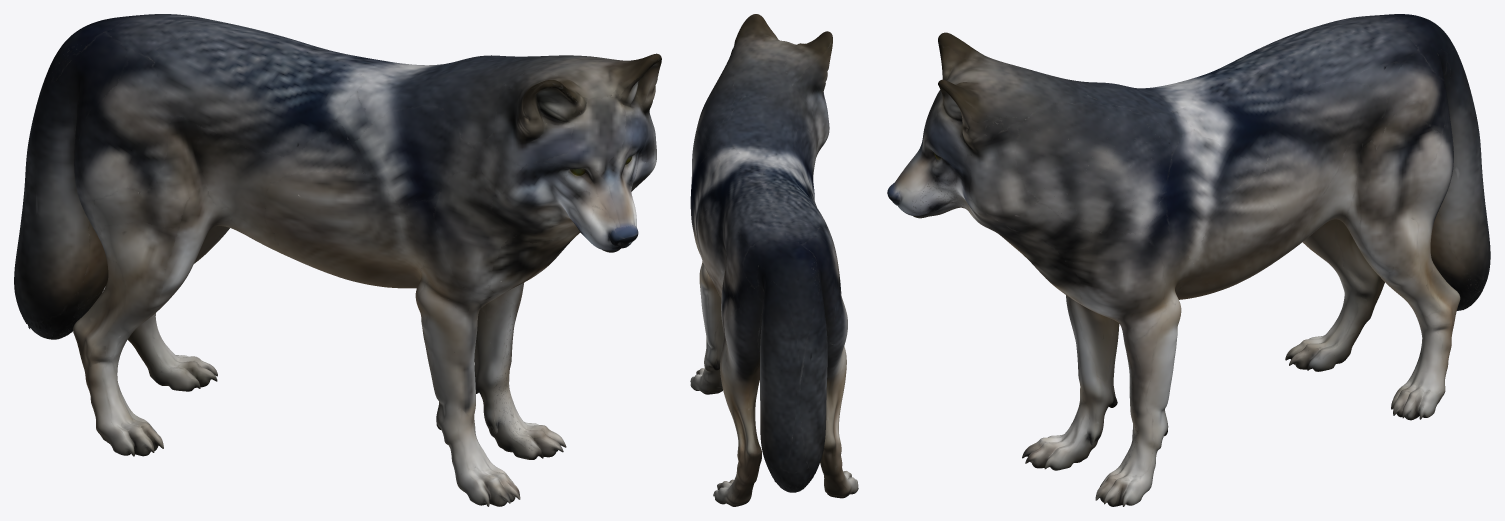
The model's file is wolf.glb.
3 renders of one model, left to right at view 1: azimuth 30°, elevation 25°; view 2: azimuth 150°, elevation 25°; view 3: azimuth 270°, elevation 25°, orthographic. The views are drawn at different scales.
Parts seen in each view (by area): view 1: material; view 2: material; view 3: material.
Part boxes in pixels (x1=…): material: x1=14, y1=14, x2=661, y2=506; material: x1=690, y1=14, x2=858, y2=506; material: x1=887, y1=14, x2=1490, y2=506.
Size of the model in its own units: 0.6446 by 0.7324 by 0.9299.
Materials: 1 (1 with a texture image).
